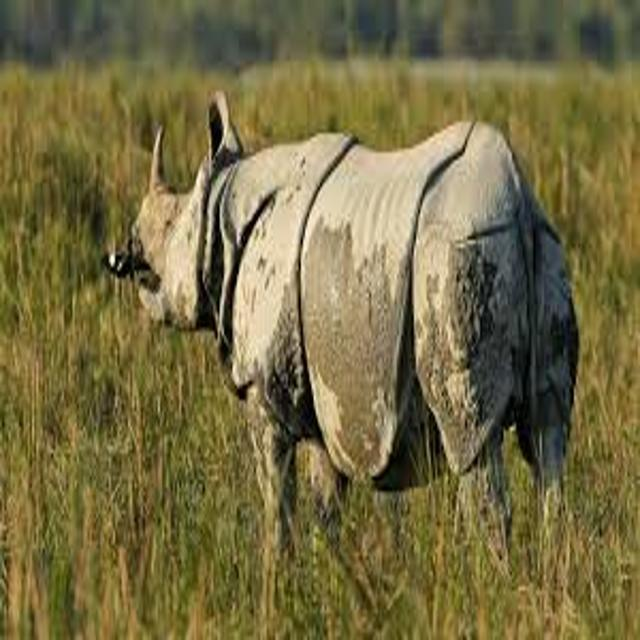rhino: (76, 66, 615, 597)
